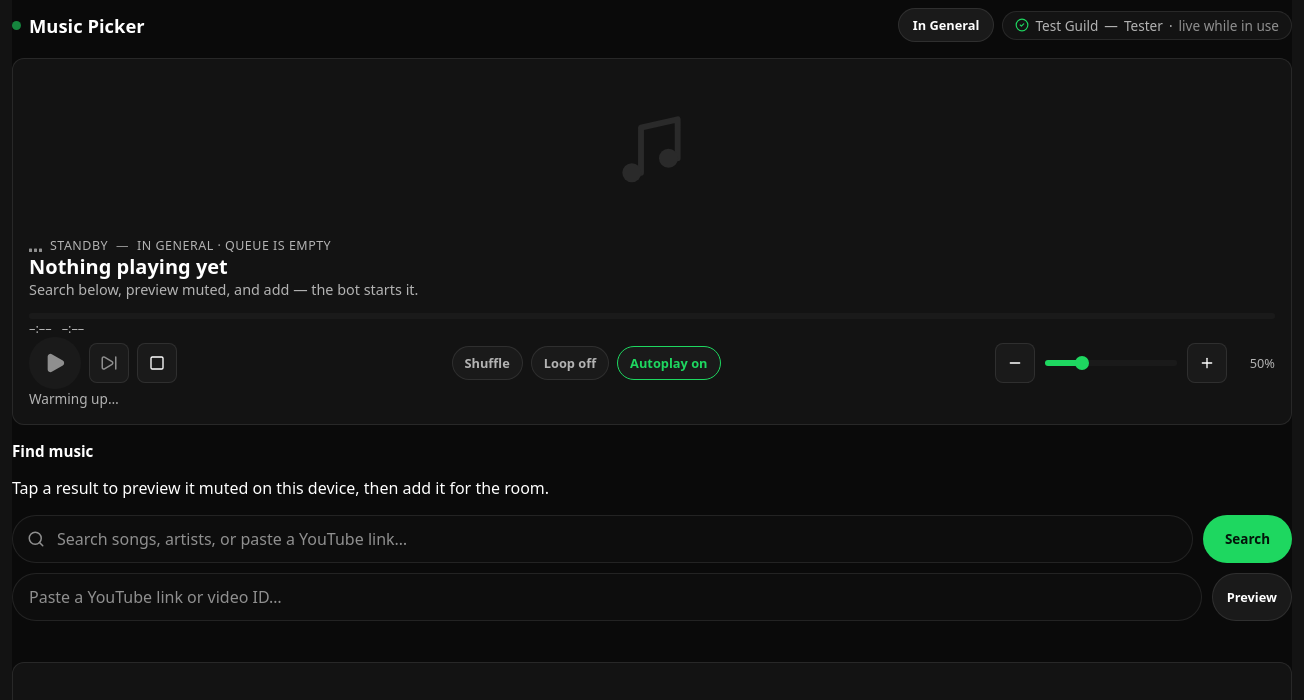
Test: search + audition (Checkpoint 4) › suggestions open after the 250ms debounce, and Enter picks one
Type "te" into the dropdown named "Search YouTube".
click(602, 539); type("te")  # box [12,515,1193,563]
Wait 250 ms
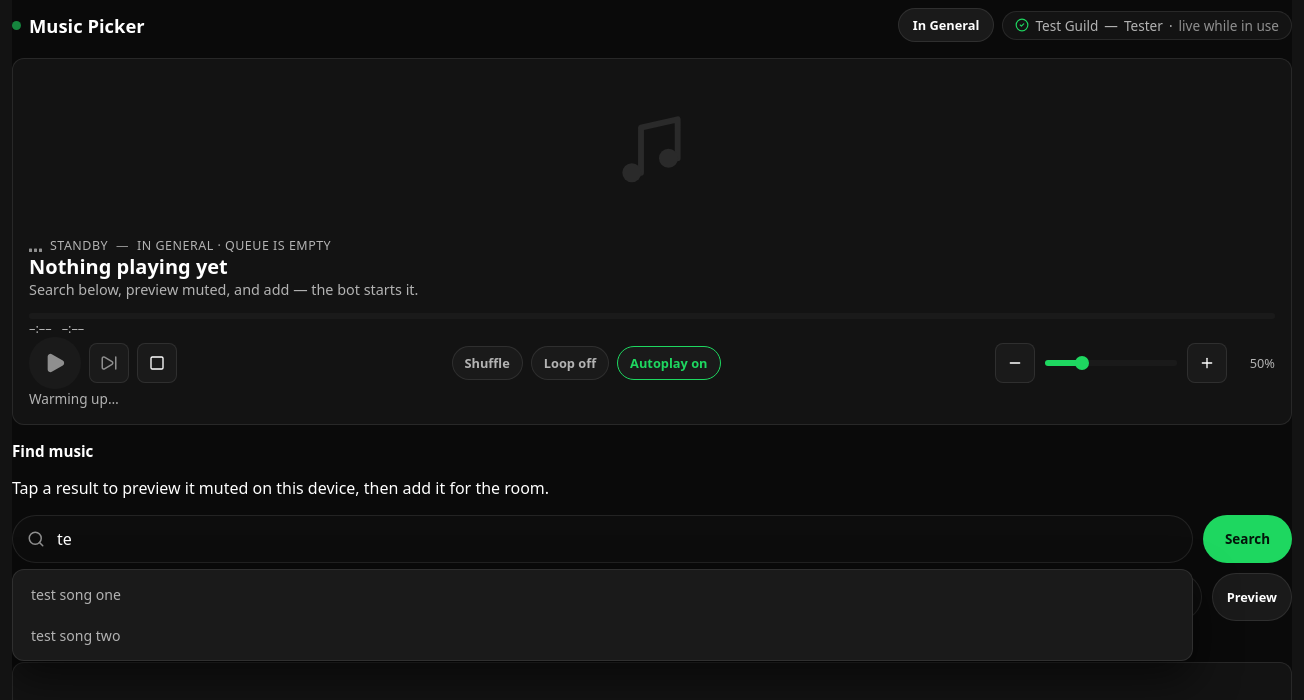
Expected: the number of options is 2
Expected: the dropdown named "Search YouTube" is expanded, [12,515,1193,563]
keyboard nav: ArrowDown moves into the list, Enter picks
Press ArrowDown in the option "test song one", box [31,585,121,604]
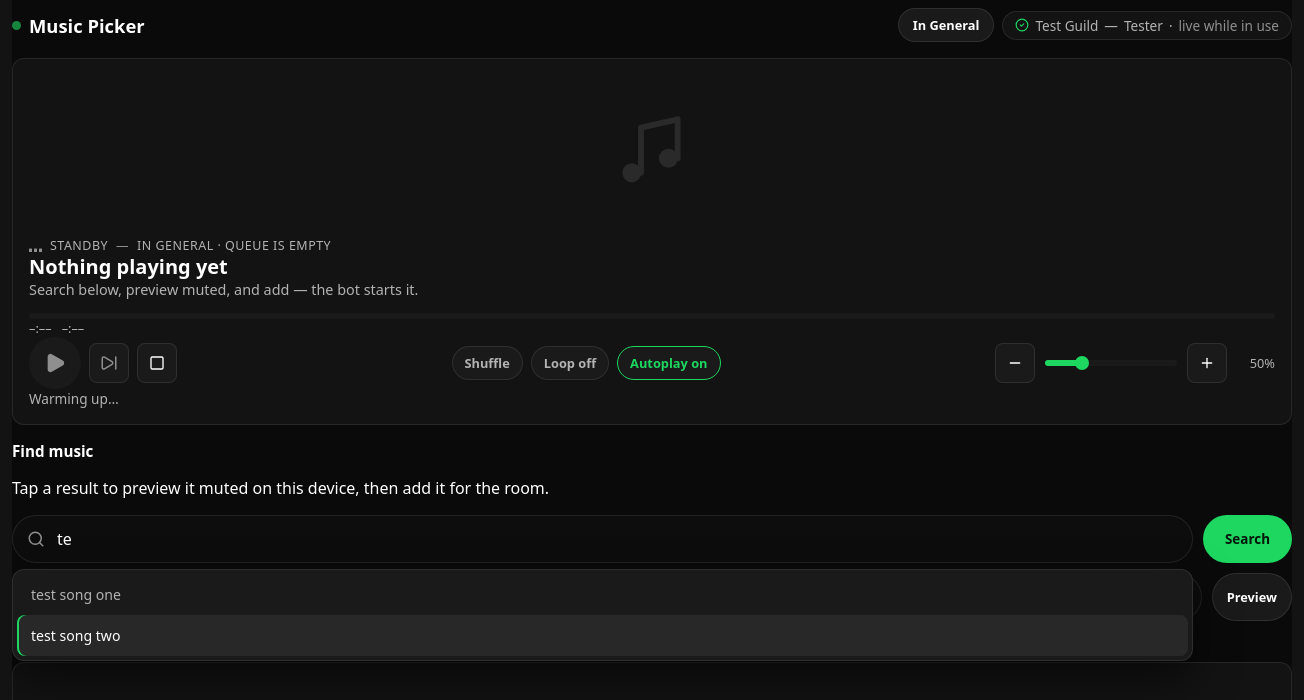
Press Enter in the option "test song two", box [17,615,1188,656]
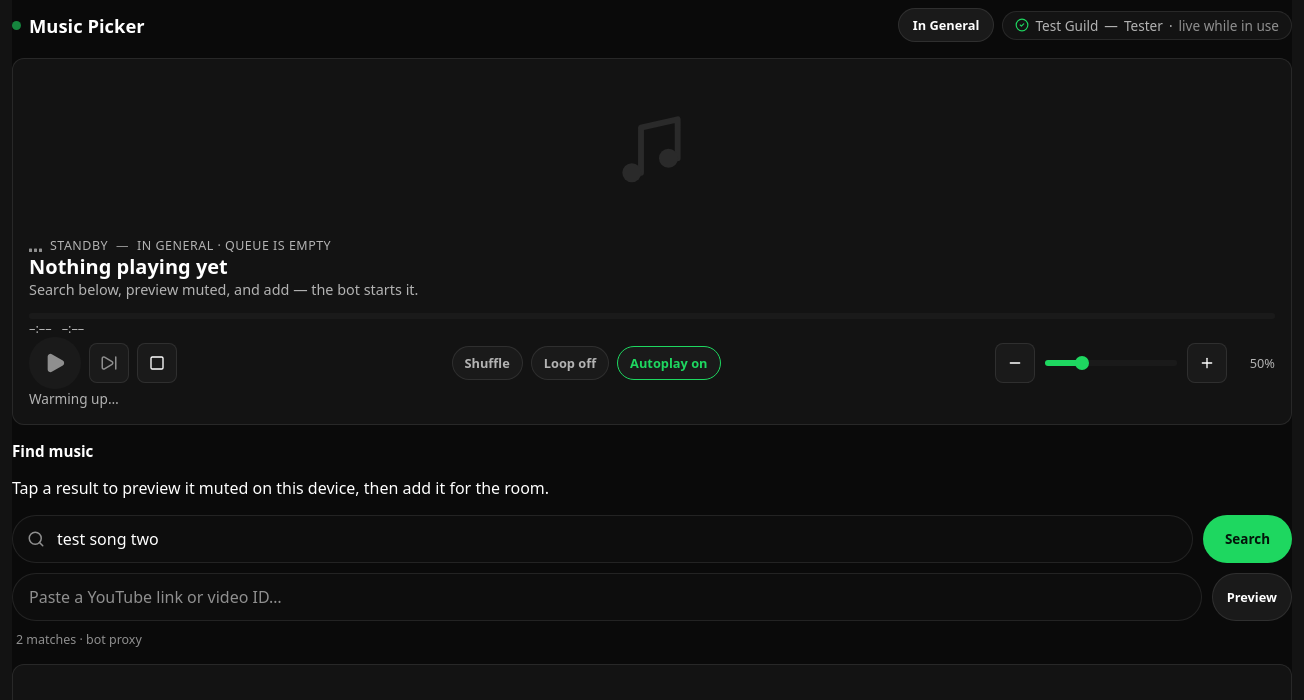
Expected: the dropdown named "Search YouTube" holds "test song two", [12,515,1193,563]
Expected: no options are shown
